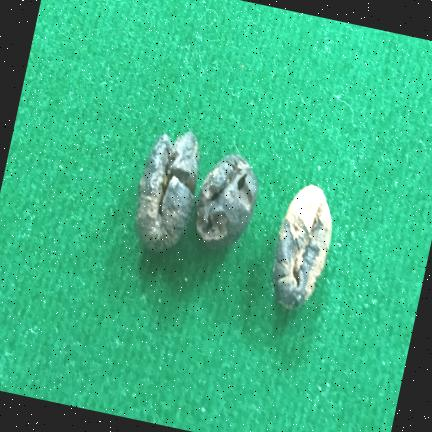partial-black: (136, 132, 199, 251), (273, 185, 332, 309), (196, 154, 259, 248)
